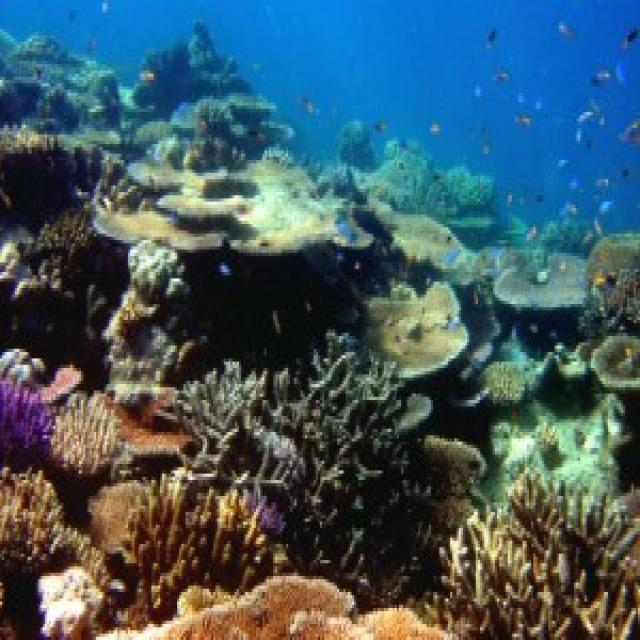Bleached: (42, 567, 101, 638)
Healthy: (174, 337, 432, 596), (440, 478, 639, 638), (97, 151, 370, 254), (123, 475, 287, 622), (101, 577, 451, 638), (108, 241, 189, 382), (1, 468, 103, 577), (579, 235, 639, 391), (370, 283, 468, 375), (50, 395, 123, 475), (372, 203, 462, 267), (496, 254, 586, 308), (1, 379, 54, 465), (88, 484, 144, 551), (483, 363, 526, 401)
